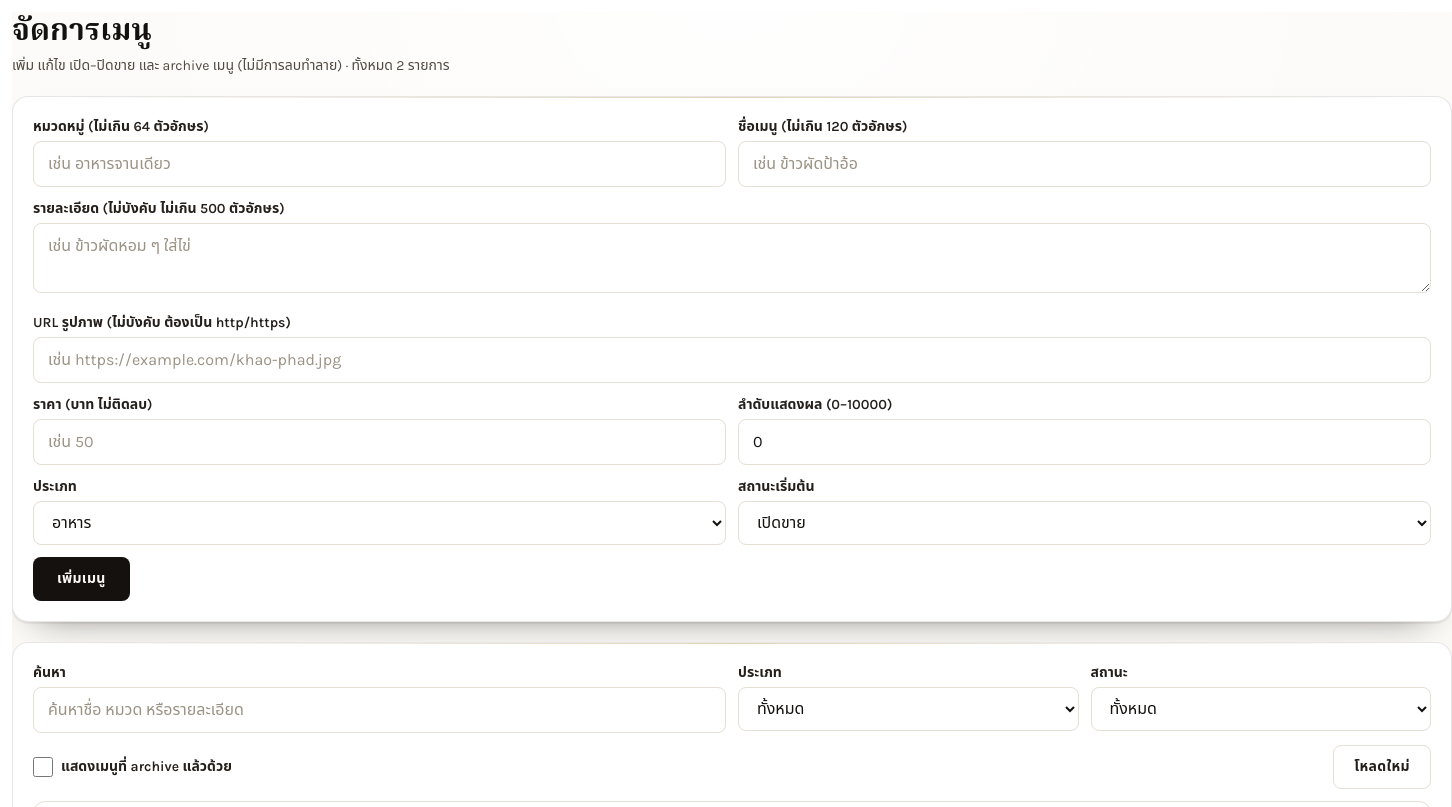
Test: หน้าจัดการเมนู (Owner/Admin, Ticket 04) › เพิ่มเมนูสำเร็จแสดงข้อความสำเร็จ
In the field labelled "หมวดหมู่ (ไม่เกิน 64 ตัวอักษร)": (380, 164) left=33, top=140, right=726, bottom=186, type "อาหารจานเดียว"
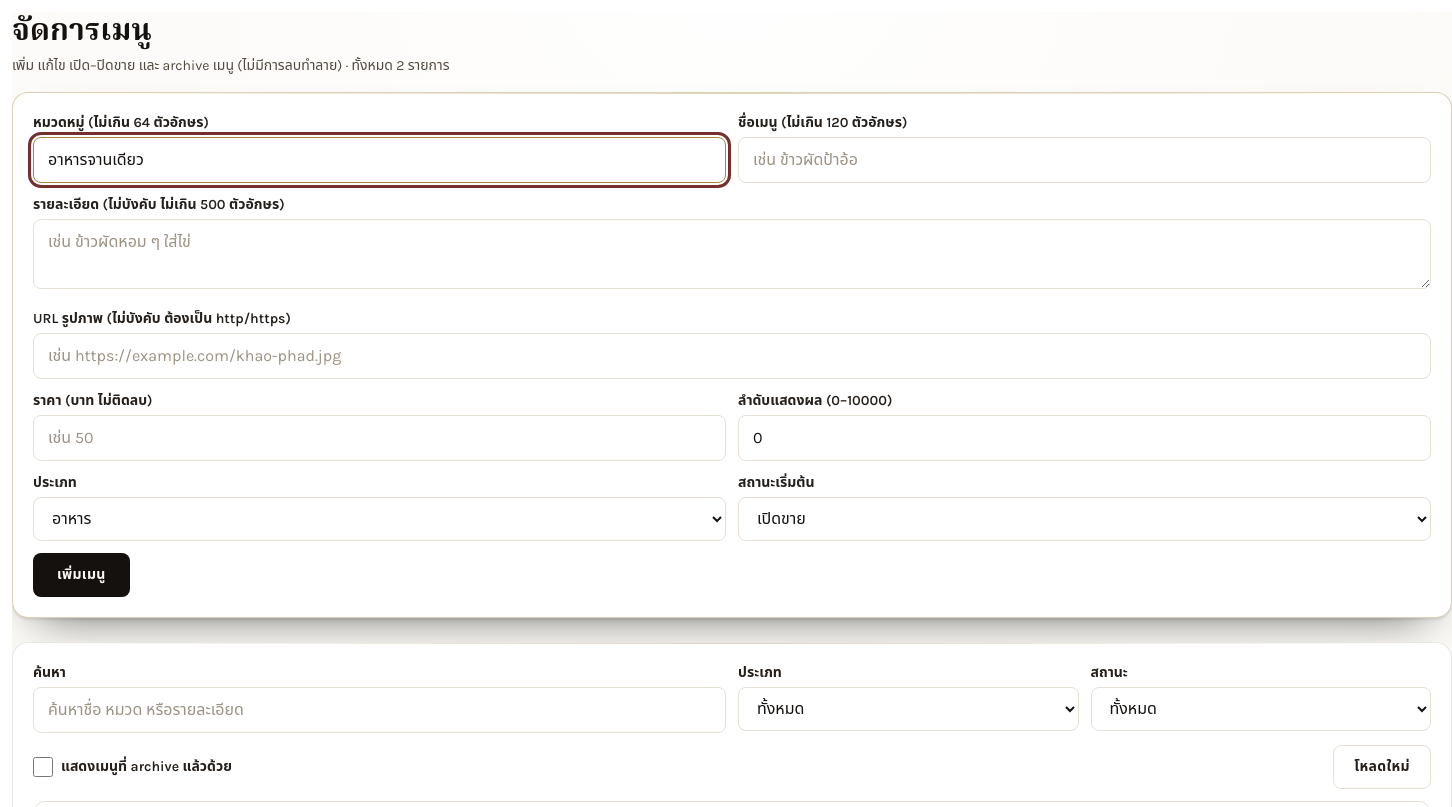
In the field labelled "ชื่อเมนู (ไม่เกิน 120 ตัวอักษร)": (1084, 160) left=738, top=136, right=1431, bottom=182, type "ข้าวผัดป้าอ้อ"
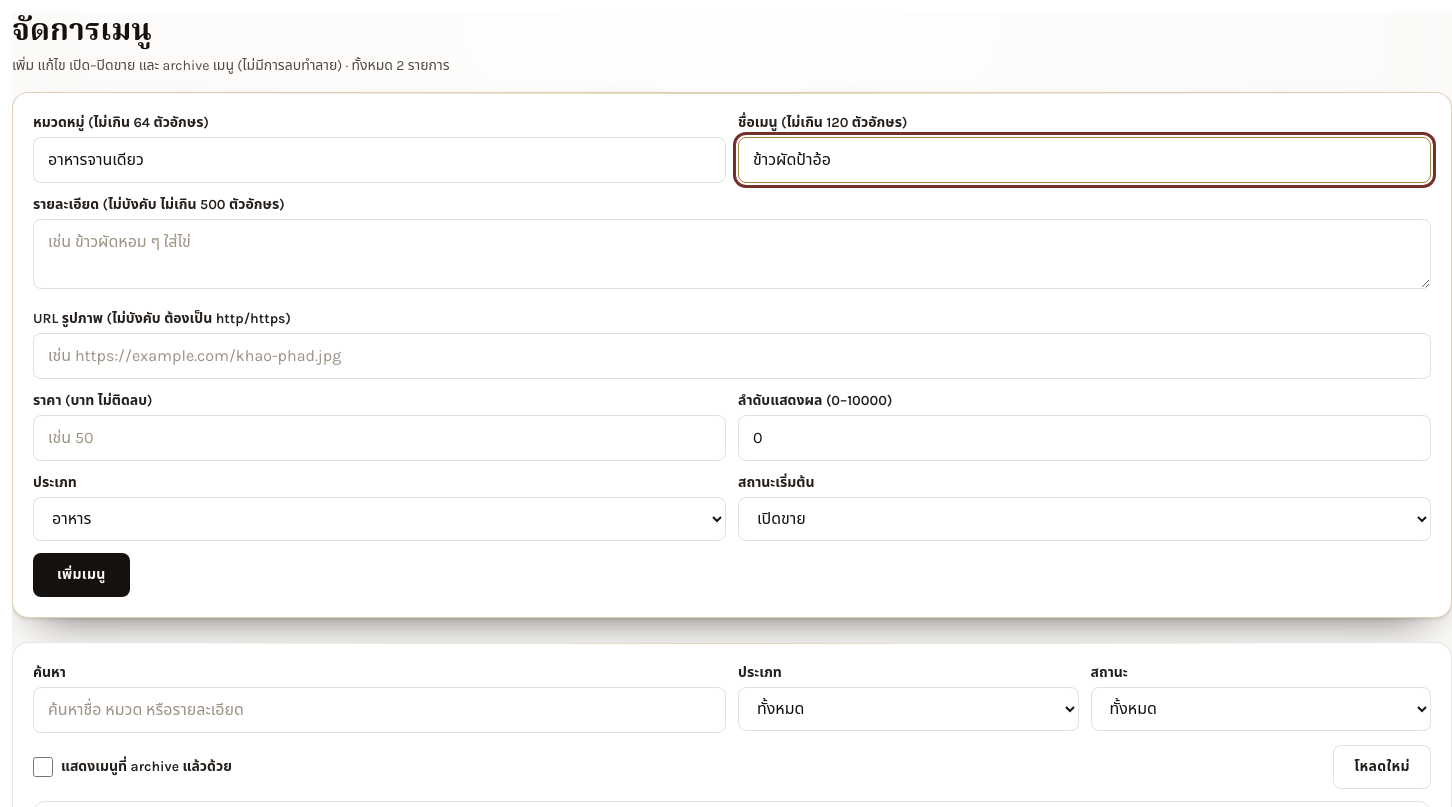
In the field labelled "ราคา (บาท ไม่ติดลบ)": (380, 438) left=33, top=415, right=726, bottom=461, type "50"
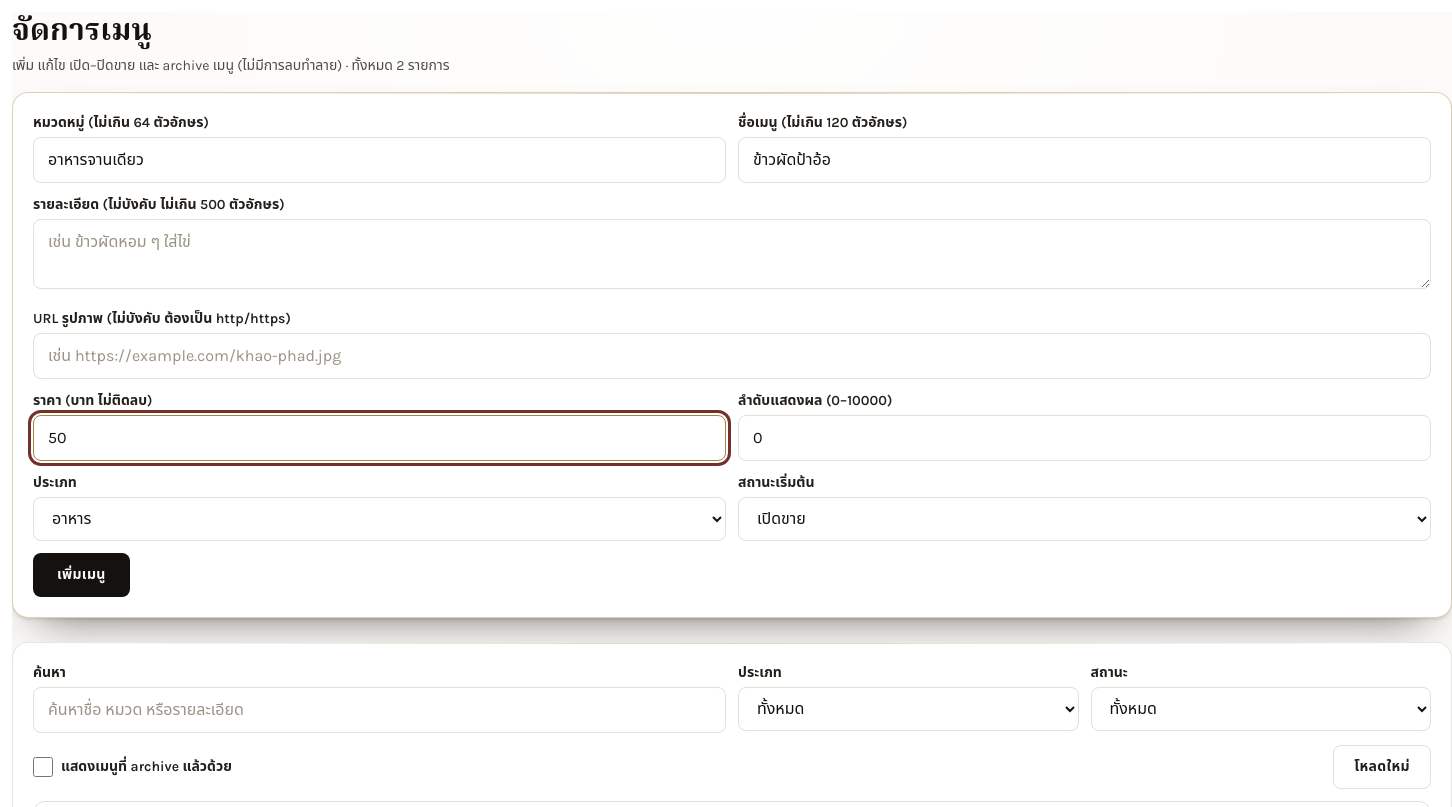
Click the button "เพิ่มเมนู": (81, 575) left=33, top=553, right=130, bottom=597
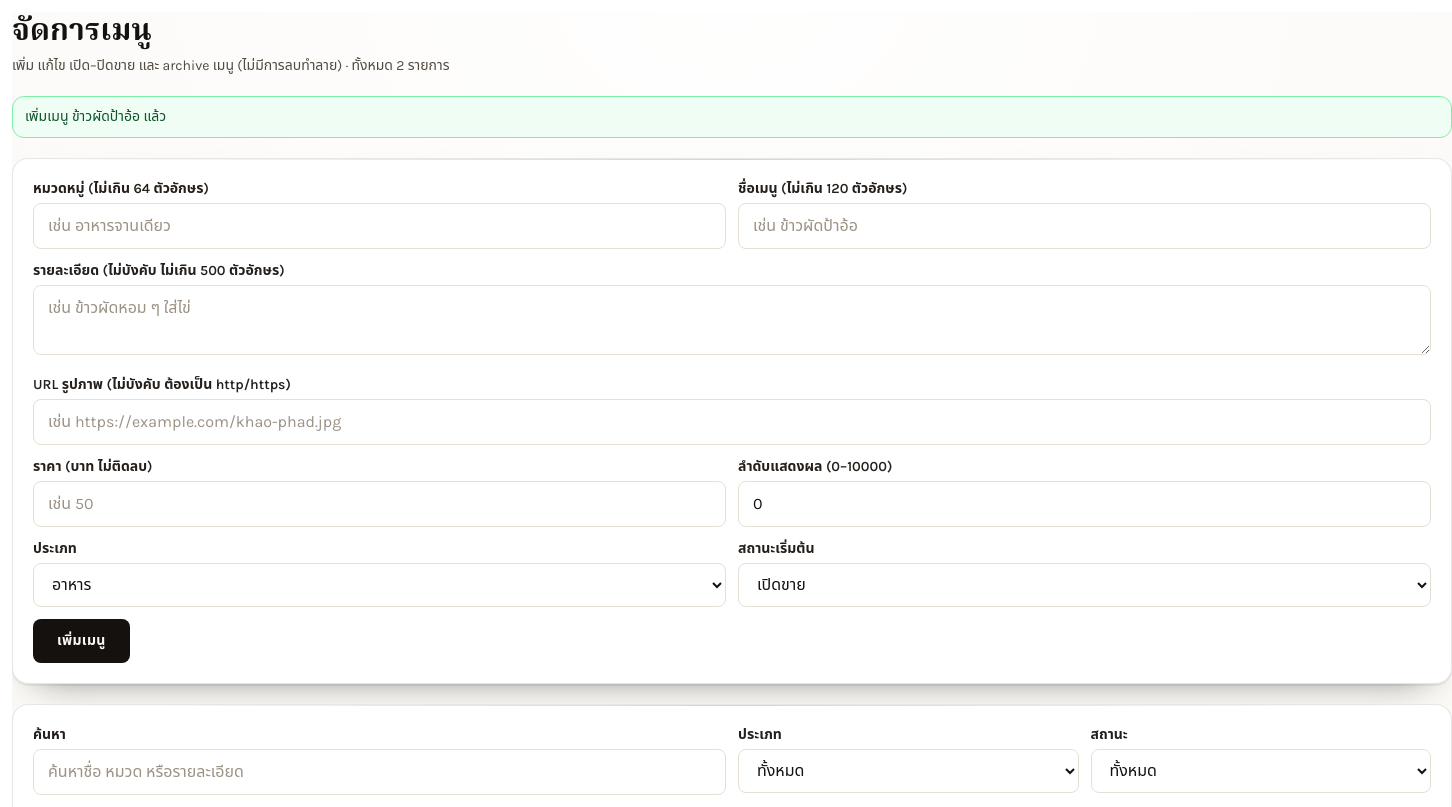
Expected: the message reads "เพิ่มเมนู ข้าวผัดป้าอ้อ แล้ว", left=25, top=108, right=166, bottom=124
